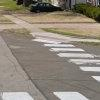Crosswalk: (29, 23, 100, 78)
